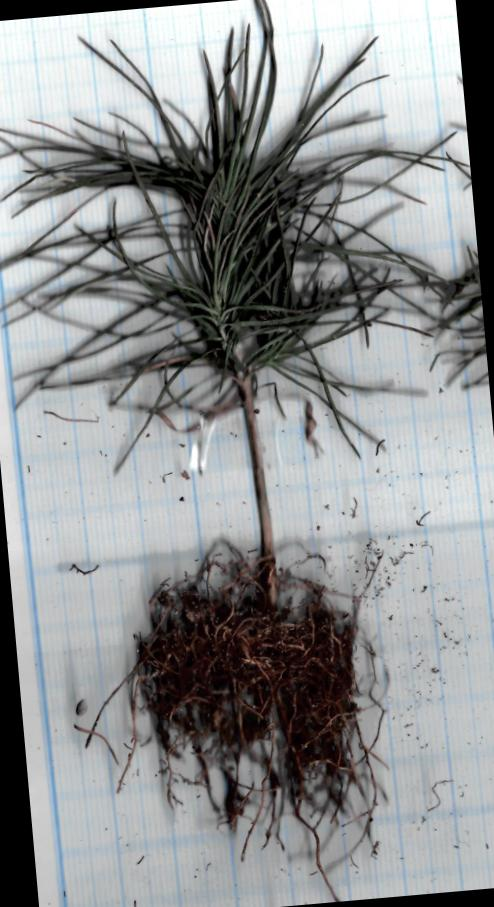flower: (0, 0, 459, 484)
root: (70, 523, 419, 907)
stem: (233, 387, 281, 549)
